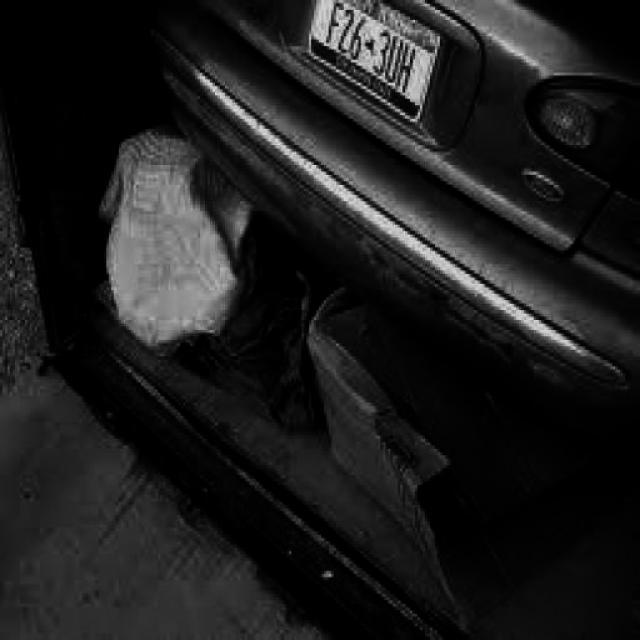car damage: (156, 73, 567, 380)
